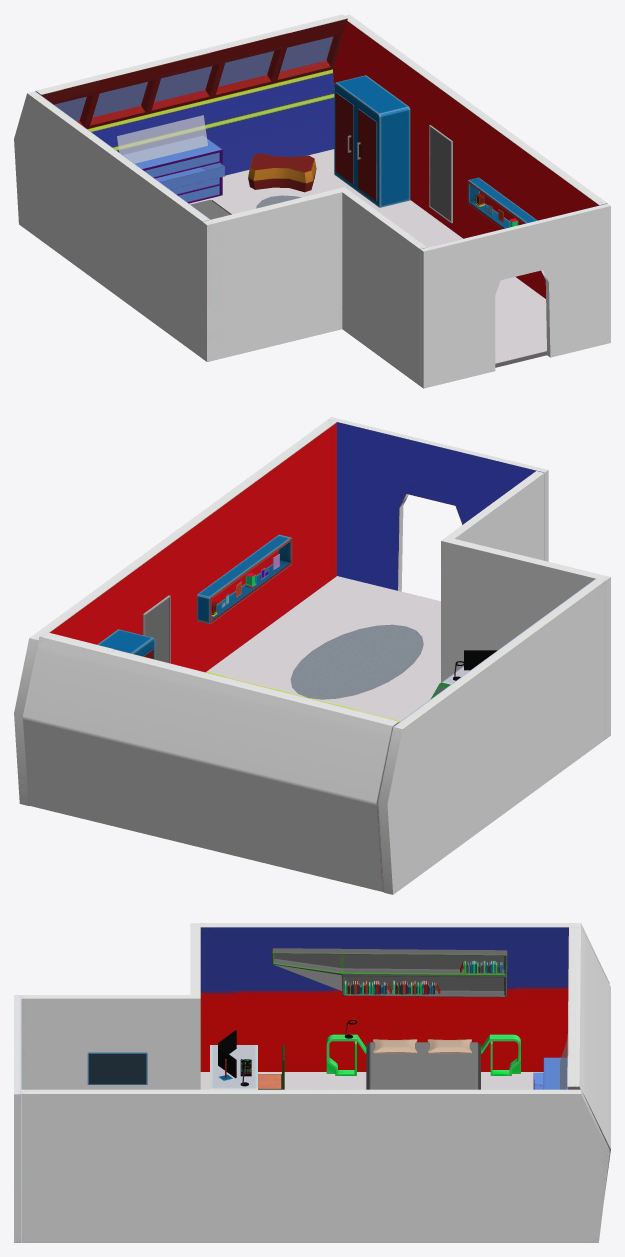
The model's file is QUARTO1.fbx.
The picture shows the model from 3 angles, top to bottom: view 1: azimuth 30°, elevation 25°; view 2: azimuth 150°, elevation 25°; view 3: azimuth 270°, elevation 25°; orthographic projection. The views are drawn at different scales.
Visible parts, largest first — view 1: polySurface70, polySurface68, polySurface69, polySurface72, polySurface67, polySurface71, pCube5, polySurface33, pCube15, pCube7, pCube12; view 2: polySurface68, polySurface69, polySurface67, polySurface70, polySurface72, polySurface71, pDisc1, pCube12, pCube7, pCube5; view 3: polySurface67, polySurface69, polySurface70, quarto:Armario_Livros, polySurface68, polySurface66, polySurface71, pCube14, polySurface72, pCube10, polySurface33, polySurface64 (+6 smaller).
Part boxes in pixels (x1=…): polySurface70: x1=202, y1=187, x2=426, y2=385; polySurface68: x1=35, y1=14, x2=347, y2=175; polySurface69: x1=14, y1=91, x2=210, y2=358; polySurface72: x1=420, y1=203, x2=610, y2=388; polySurface67: x1=333, y1=14, x2=607, y2=298; polySurface71: x1=189, y1=149, x2=546, y2=367; pCube5: x1=334, y1=75, x2=410, y2=207; polySurface33: x1=117, y1=115, x2=224, y2=203; pCube15: x1=248, y1=153, x2=316, y2=192; pCube7: x1=429, y1=125, x2=452, y2=223; pCube12: x1=467, y1=177, x2=537, y2=228; polySurface68: x1=22, y1=632, x2=398, y2=891; polySurface69: x1=378, y1=578, x2=605, y2=894; polySurface67: x1=14, y1=419, x2=336, y2=805; polySurface70: x1=441, y1=471, x2=610, y2=738; polySurface72: x1=328, y1=417, x2=548, y2=591; polySurface71: x1=206, y1=576, x2=440, y2=722; pDisc1: x1=290, y1=624, x2=423, y2=699; pCube12: x1=197, y1=534, x2=292, y2=624; pCube7: x1=143, y1=595, x2=170, y2=663; pCube5: x1=97, y1=629, x2=155, y2=659; polySurface67: x1=21, y1=1089, x2=609, y2=1242; polySurface69: x1=200, y1=923, x2=609, y2=1071; polySurface70: x1=21, y1=923, x2=200, y2=1089; quarto:Armario_Livros: x1=272, y1=948, x2=507, y2=997; polySurface68: x1=567, y1=927, x2=610, y2=1194; polySurface66: x1=326, y1=1034, x2=520, y2=1089; polySurface71: x1=200, y1=1072, x2=543, y2=1089; pCube14: x1=87, y1=1052, x2=147, y2=1084; polySurface72: x1=14, y1=995, x2=20, y2=1242; pCube10: x1=210, y1=1045, x2=257, y2=1089; polySurface33: x1=533, y1=1039, x2=568, y2=1089; polySurface64: x1=427, y1=1039, x2=471, y2=1053.
Bounding box in the file's own units: 39.36 × 16.33 × 58.12.
Materials: 20 (19 with a texture image).
